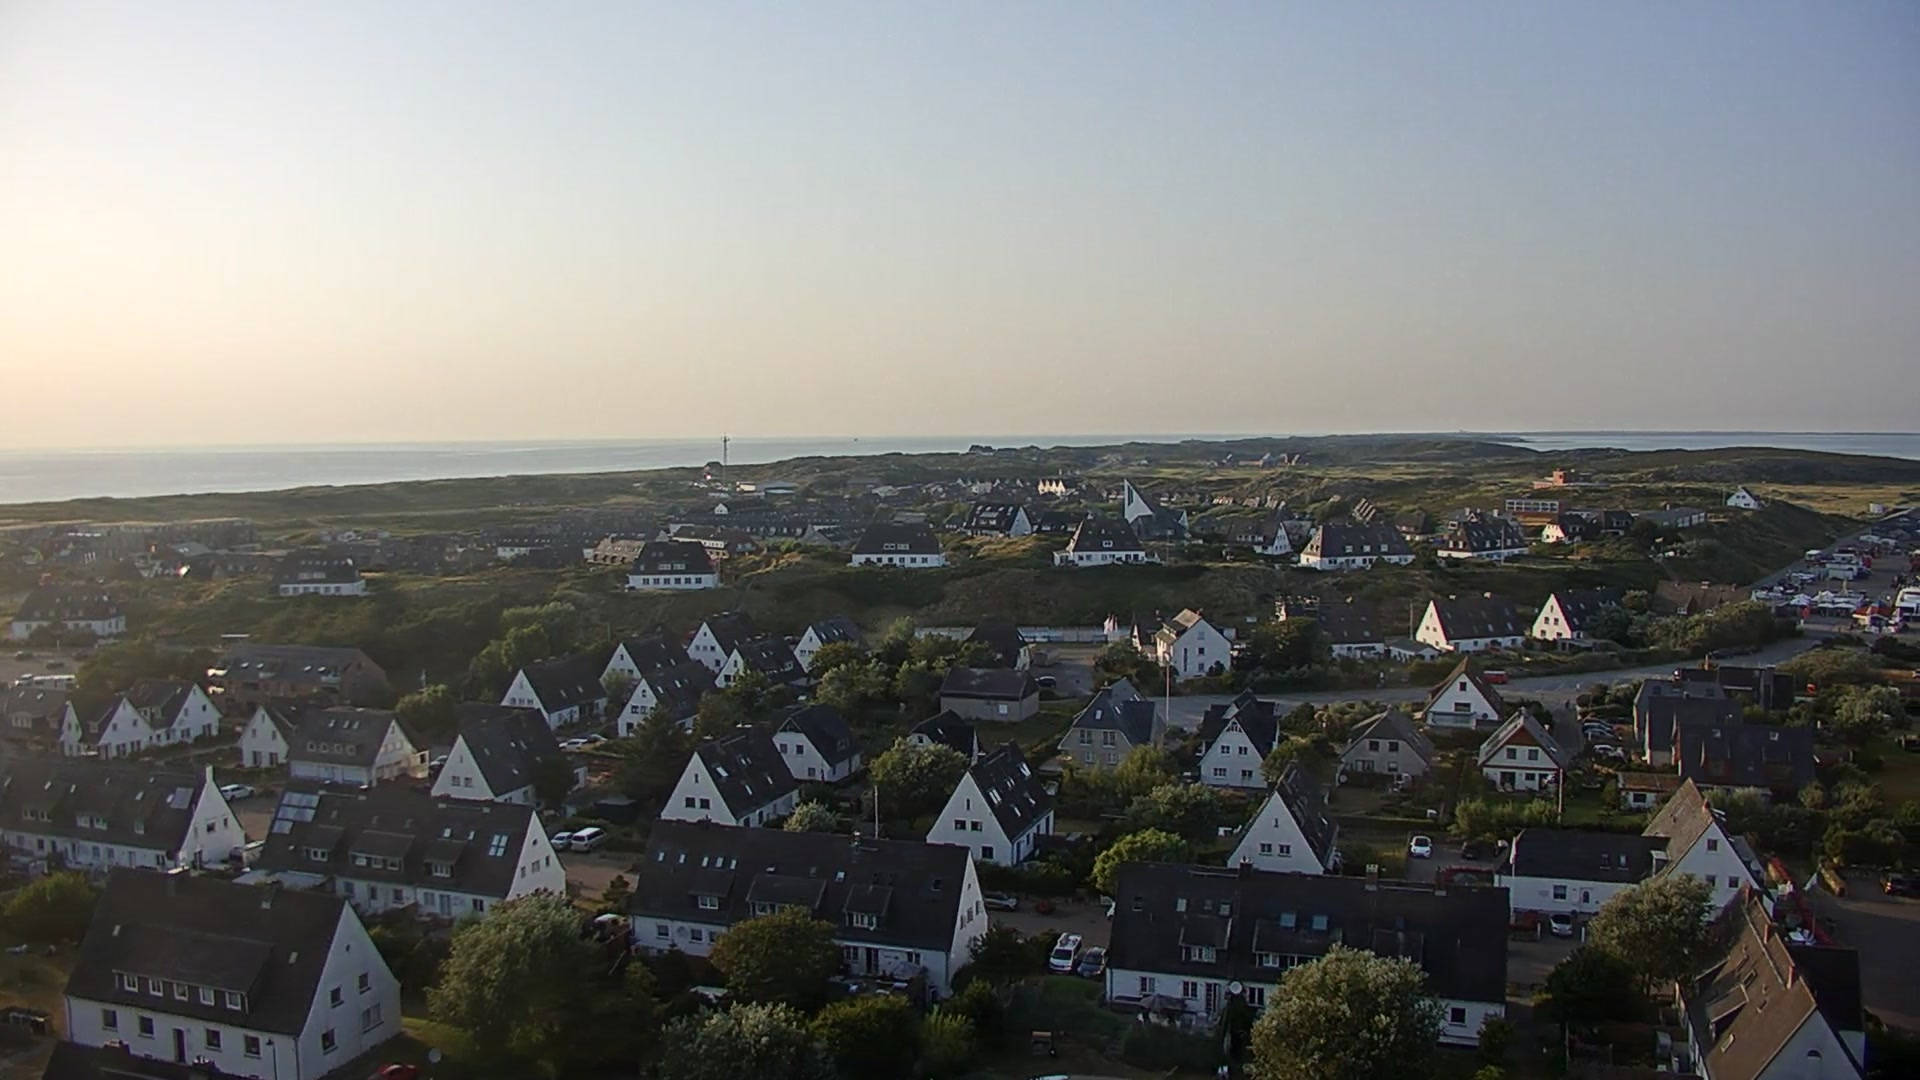land: (1044, 930, 1085, 975), (1073, 942, 1109, 978), (567, 824, 609, 852), (591, 911, 629, 939), (980, 887, 1021, 913), (368, 1062, 421, 1079), (1876, 869, 1908, 895), (219, 783, 257, 804), (1548, 910, 1575, 938), (1407, 833, 1433, 858), (546, 829, 575, 852), (1582, 727, 1623, 742), (1581, 723, 1615, 740), (1892, 732, 1920, 752), (1592, 742, 1623, 758), (1582, 717, 1615, 732), (556, 737, 588, 752), (1458, 839, 1481, 858), (1704, 647, 1735, 661), (1480, 670, 1507, 684), (1865, 613, 1888, 626), (1102, 899, 1116, 923), (1035, 674, 1058, 687), (1803, 549, 1822, 563), (585, 732, 609, 742), (429, 754, 448, 765)
sea: (1894, 585, 1919, 615)
